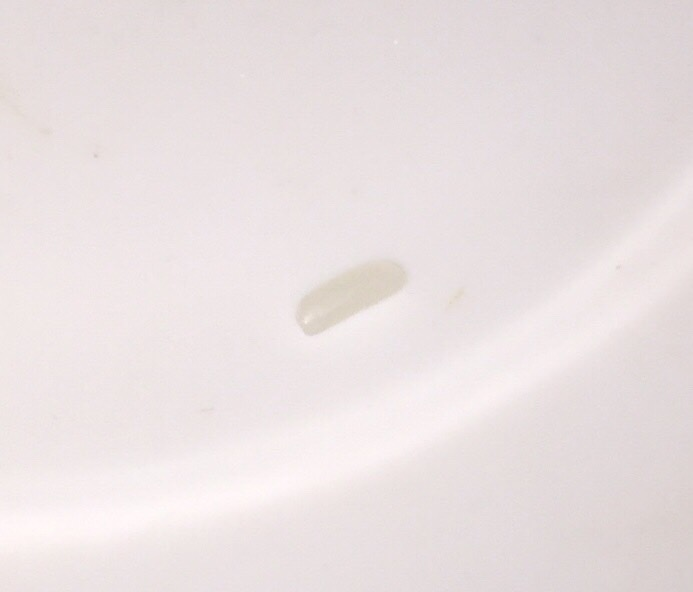Gao Ngoc Troi: (292, 252, 414, 341)
